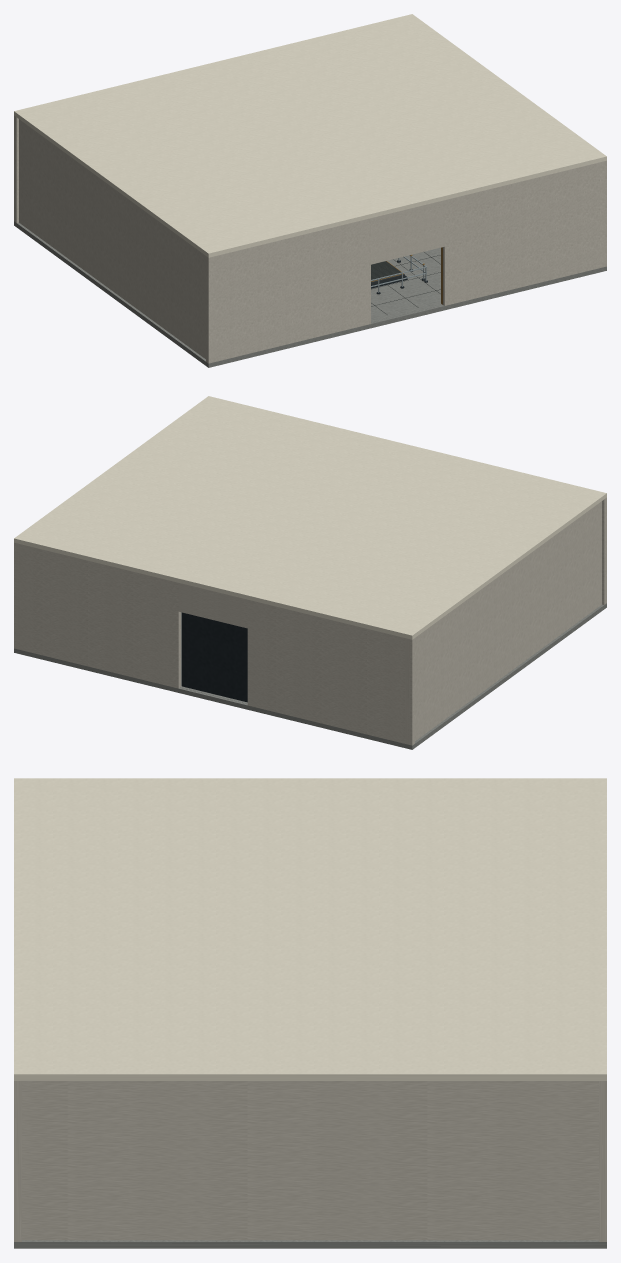
3 renders of one model, top to bottom at view 1: azimuth 30°, elevation 25°; view 2: azimuth 150°, elevation 25°; view 3: azimuth 270°, elevation 25°, orthographic. The views are drawn at different scales.
Parts seen in each view (by area): view 1: VIS_SHELL_ivory, VIS_SHELL_limestone, VIS_SHELL_terrazzo; view 2: VIS_SHELL_ivory, VIS_SHELL_limestone, VIS_SHELL_graphite, VIS_SHELL_terrazzo; view 3: VIS_SHELL_ivory, VIS_SHELL_limestone, VIS_SHELL_terrazzo.
Boxes of the visible parts, x1,y1,x2,y2 form: VIS_SHELL_ivory: (14,14,606,257); VIS_SHELL_limestone: (14,115,606,363); VIS_SHELL_terrazzo: (14,221,606,367); VIS_SHELL_ivory: (14,396,606,639); VIS_SHELL_limestone: (14,497,606,745); VIS_SHELL_graphite: (182,612,247,702); VIS_SHELL_terrazzo: (14,603,606,749); VIS_SHELL_ivory: (14,778,606,1080); VIS_SHELL_limestone: (14,1081,606,1241); VIS_SHELL_terrazzo: (14,1240,606,1248).
Size of the model in its own units: 26 by 7.13 by 22.
14 materials, 14 textured.
